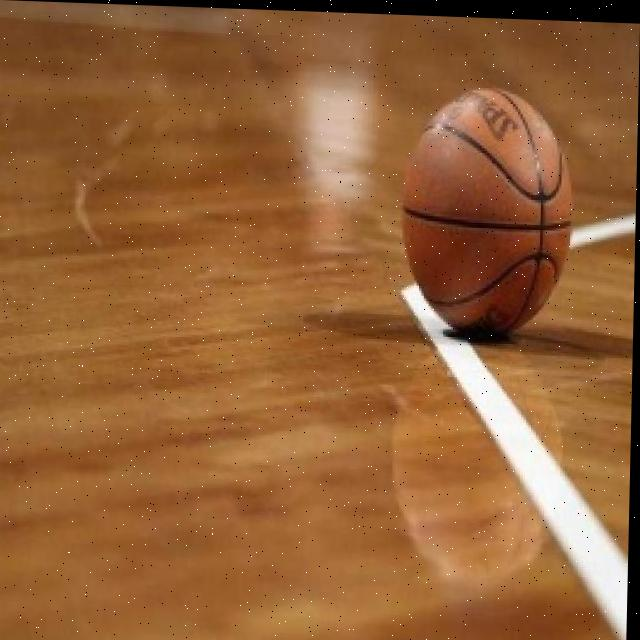Basketball: (394, 85, 572, 332)
